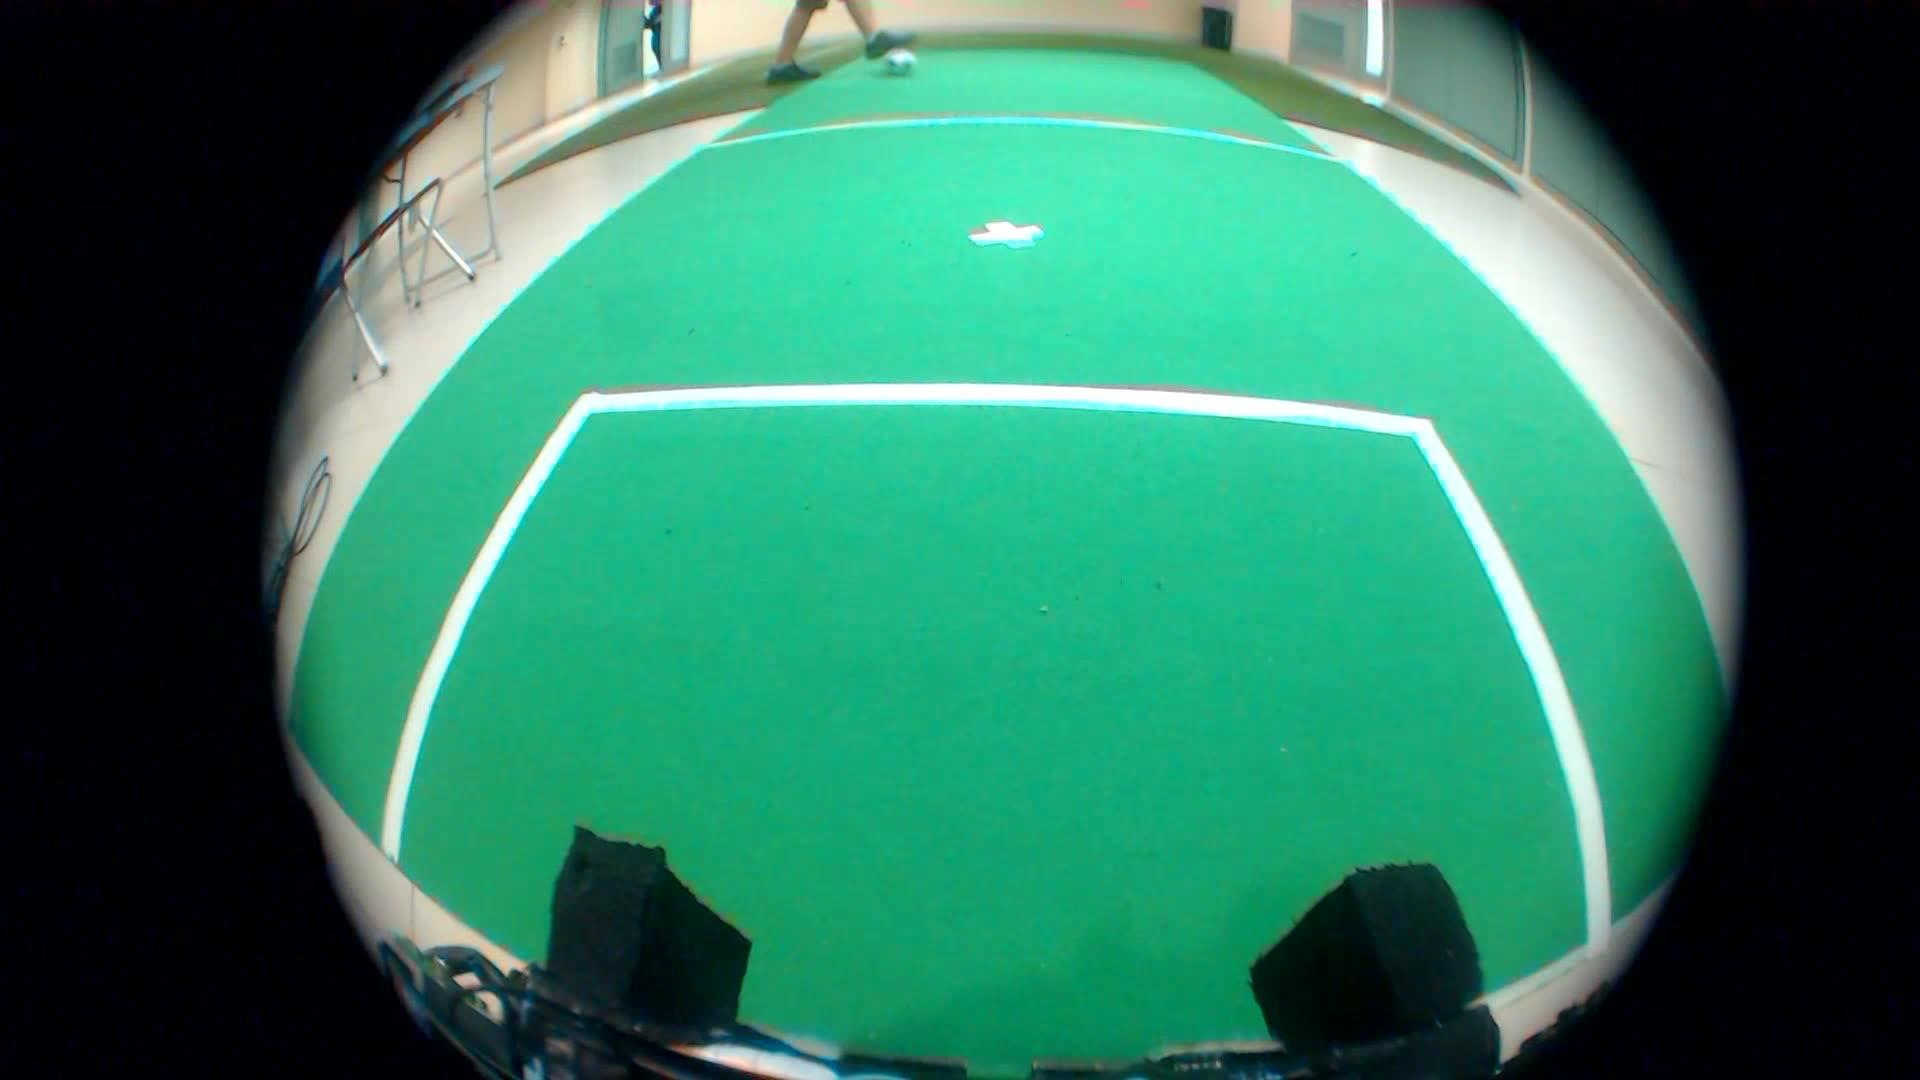ball: (876, 34, 920, 88)
